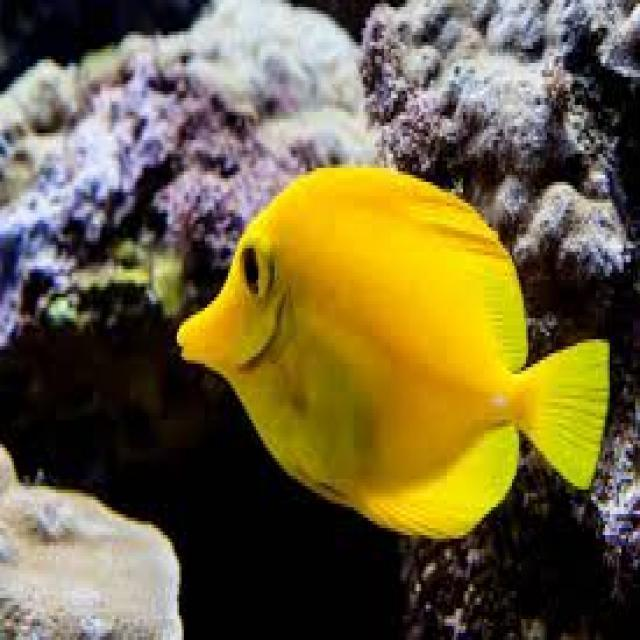TangFish: (175, 165, 606, 535)
